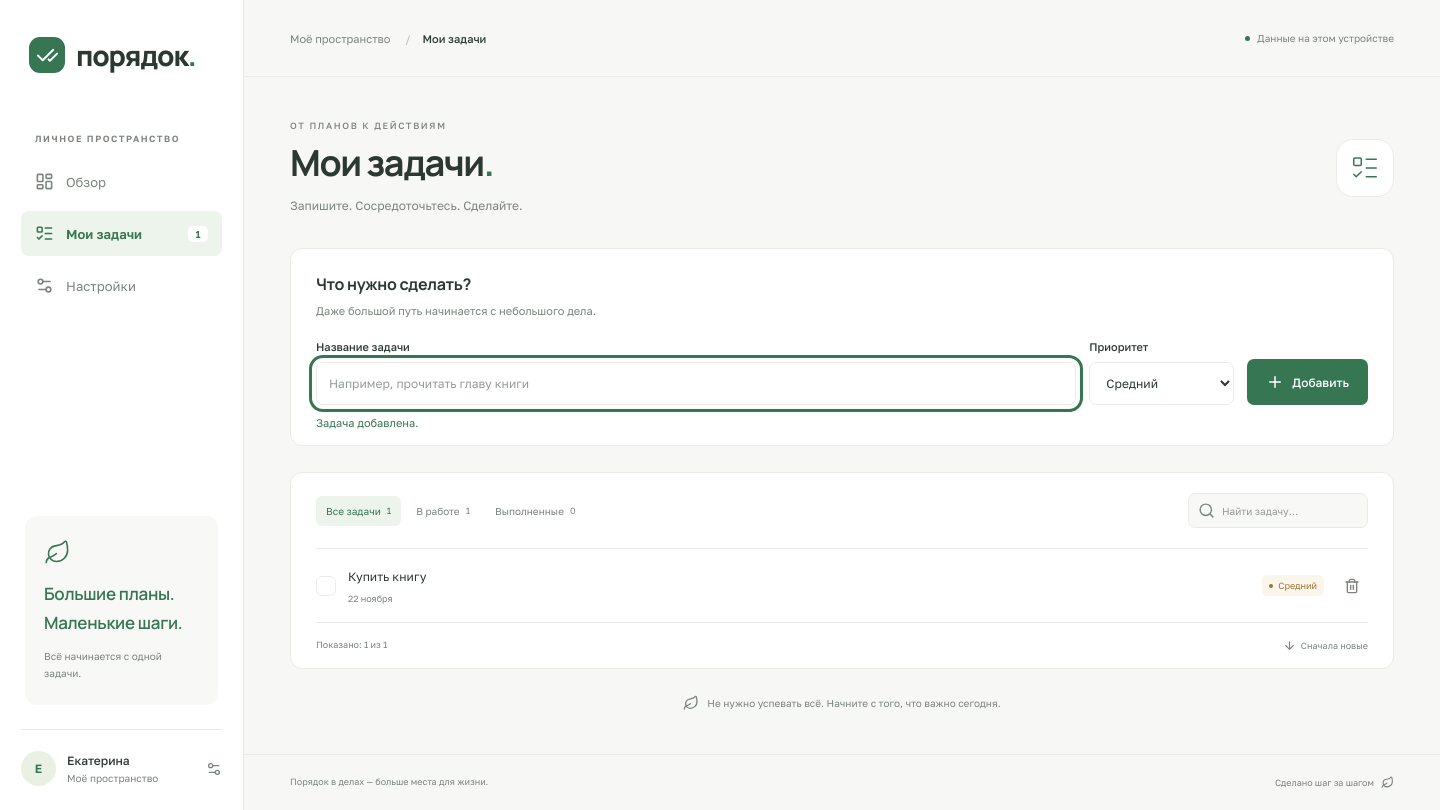
Scenario: показывает ошибку пустой формы, фильтрует, ищет и удаляет задачи
The image size is (1440, 810).
Earlier steps of the test are not shown.
Click the checkbox named "Завершить: Купить книгу".
click(326, 586)  # box [316, 576, 336, 596]
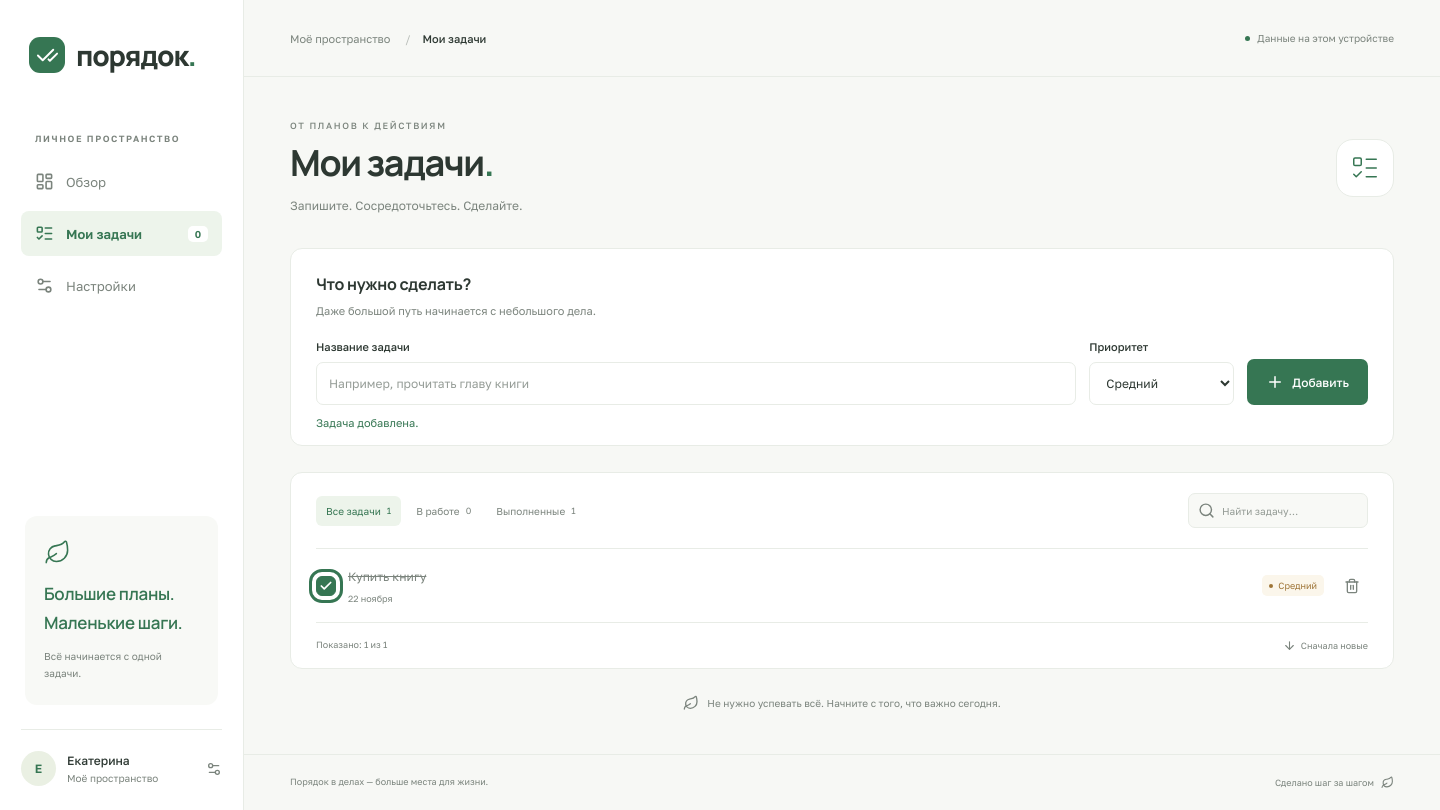
Click the button "В работе 0".
click(444, 511)  # box [406, 496, 481, 526]
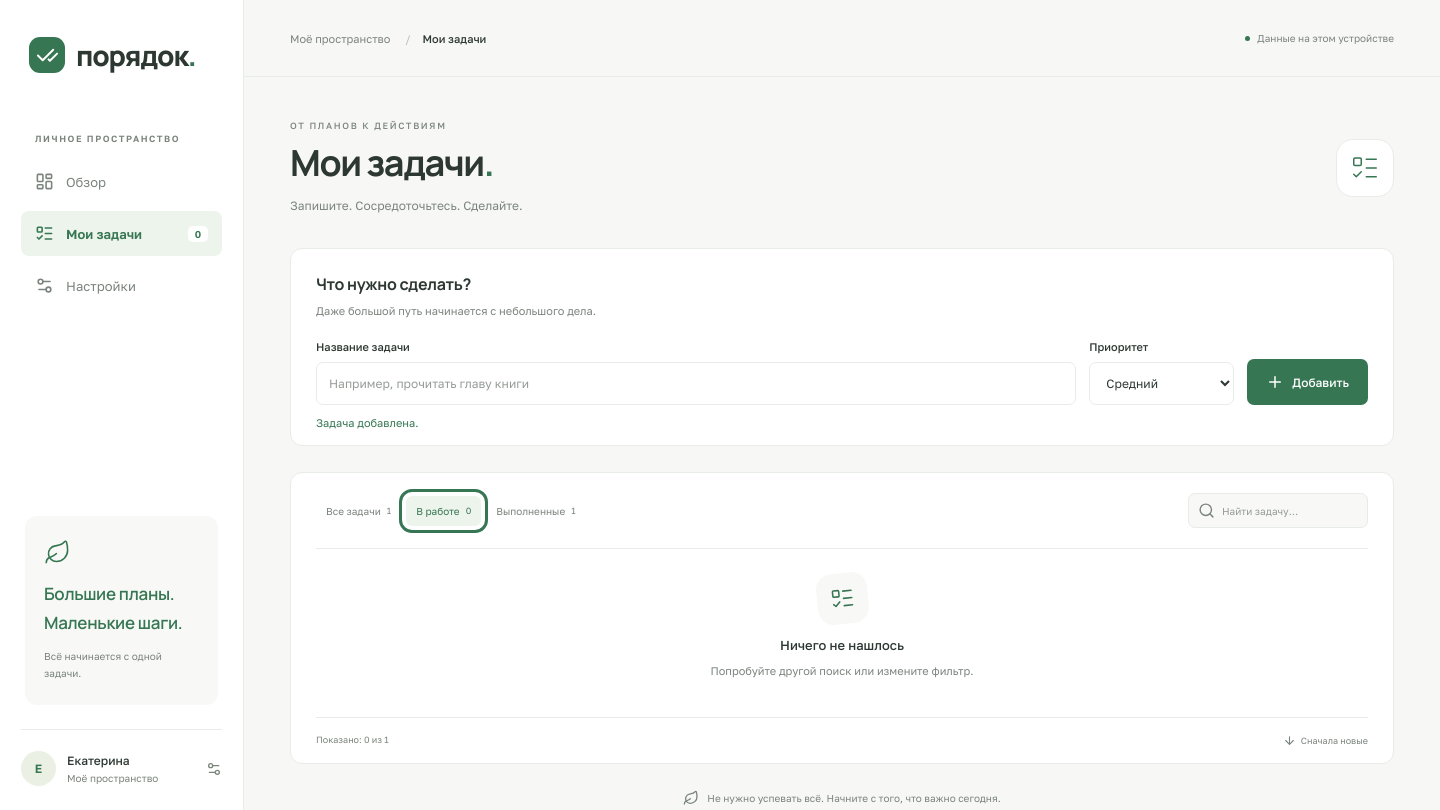
Check: the text "Купить книгу" is gone
Click the button "Выполненные 1".
click(536, 511)  # box [486, 496, 586, 526]
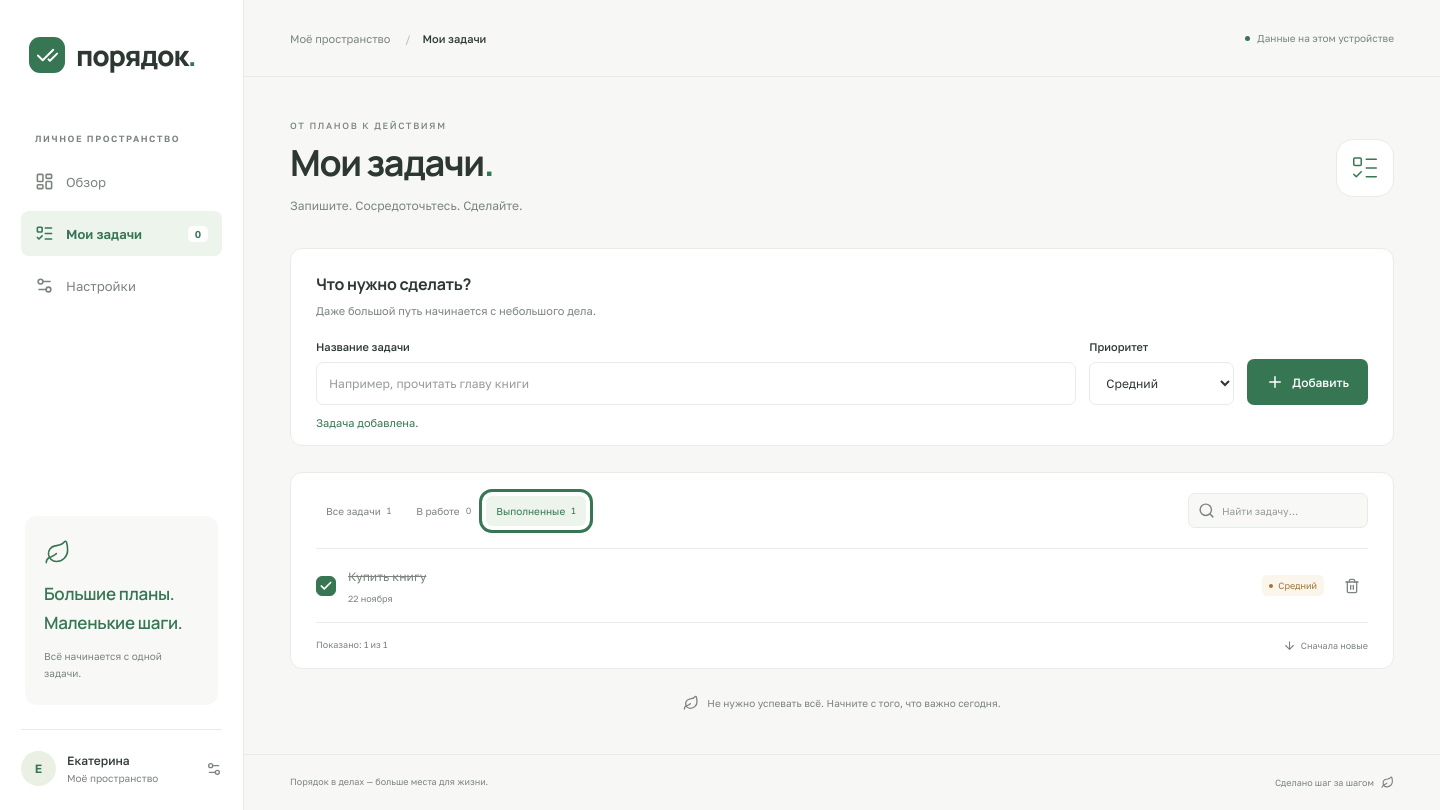
Check: the text "Купить книгу" is shown, box [348, 570, 426, 584]
Type "нет совпадений" into the field named "Поиск задач".
click(1278, 511); type("нет совпадений")  # box [1188, 494, 1368, 528]
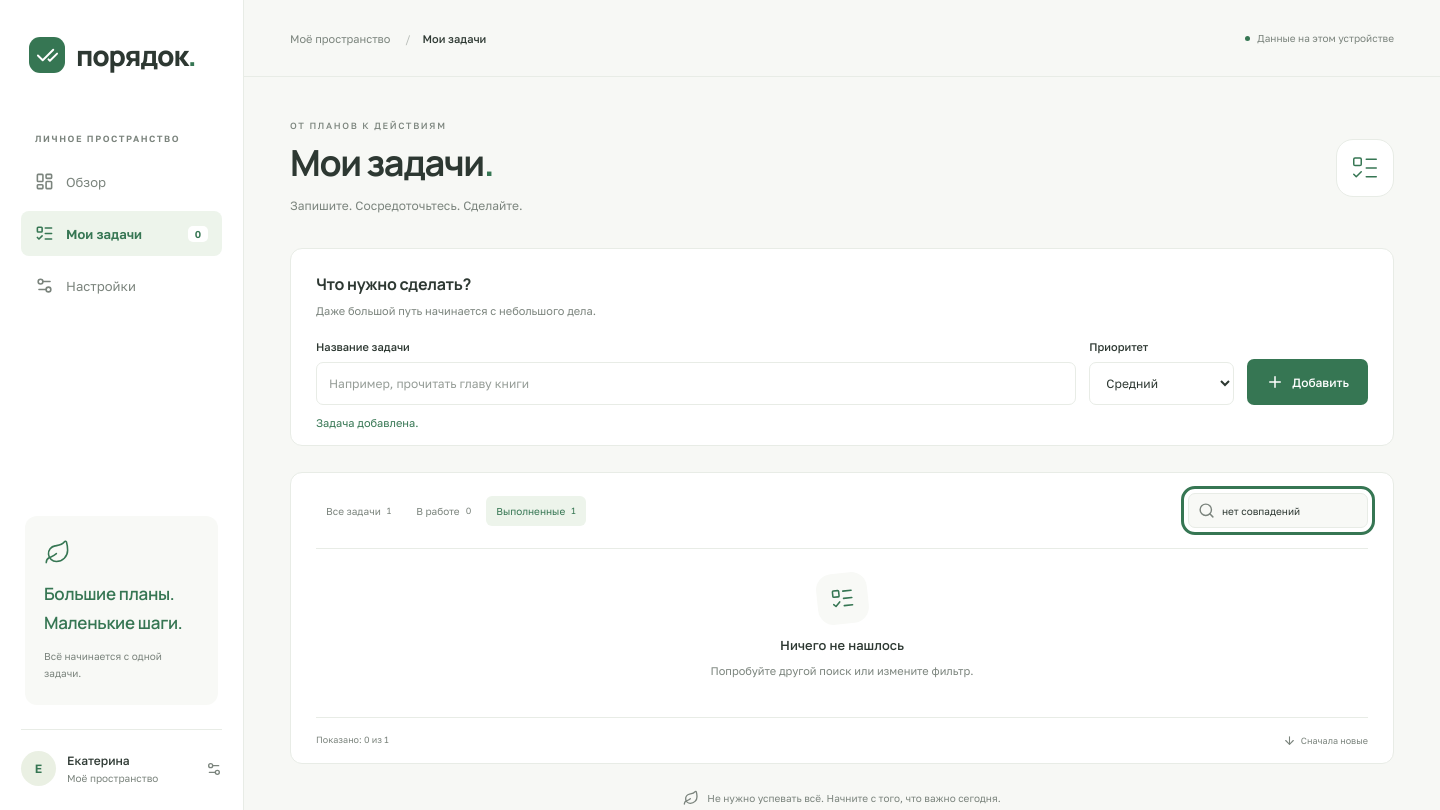
Check: the heading "Ничего не нашлось" is shown, box [780, 638, 904, 654]
Clear the field named "Поиск задач" at [1278, 511], box [1188, 494, 1368, 528]
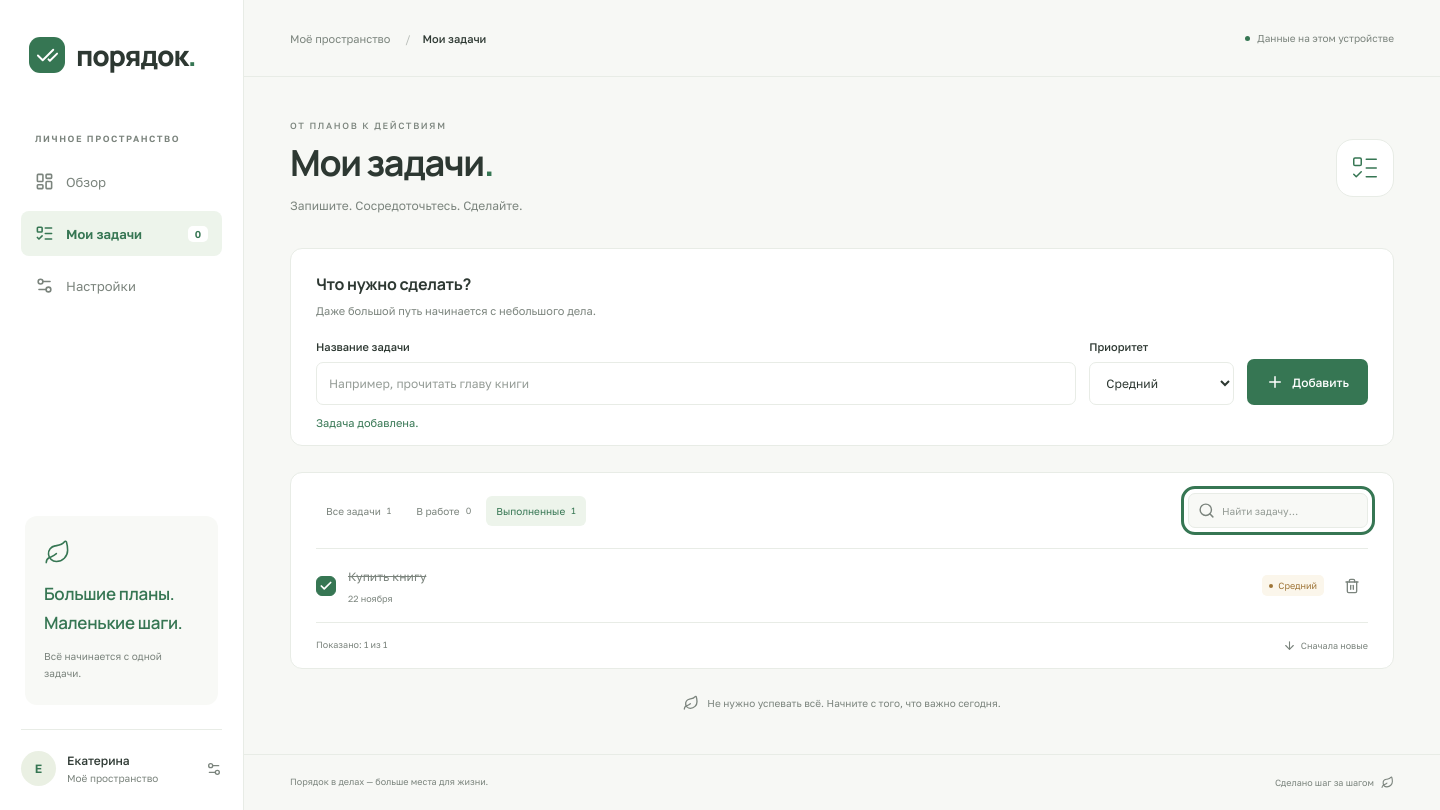
Click the button named "Удалить: Купить книгу".
click(1352, 586)  # box [1336, 570, 1368, 602]
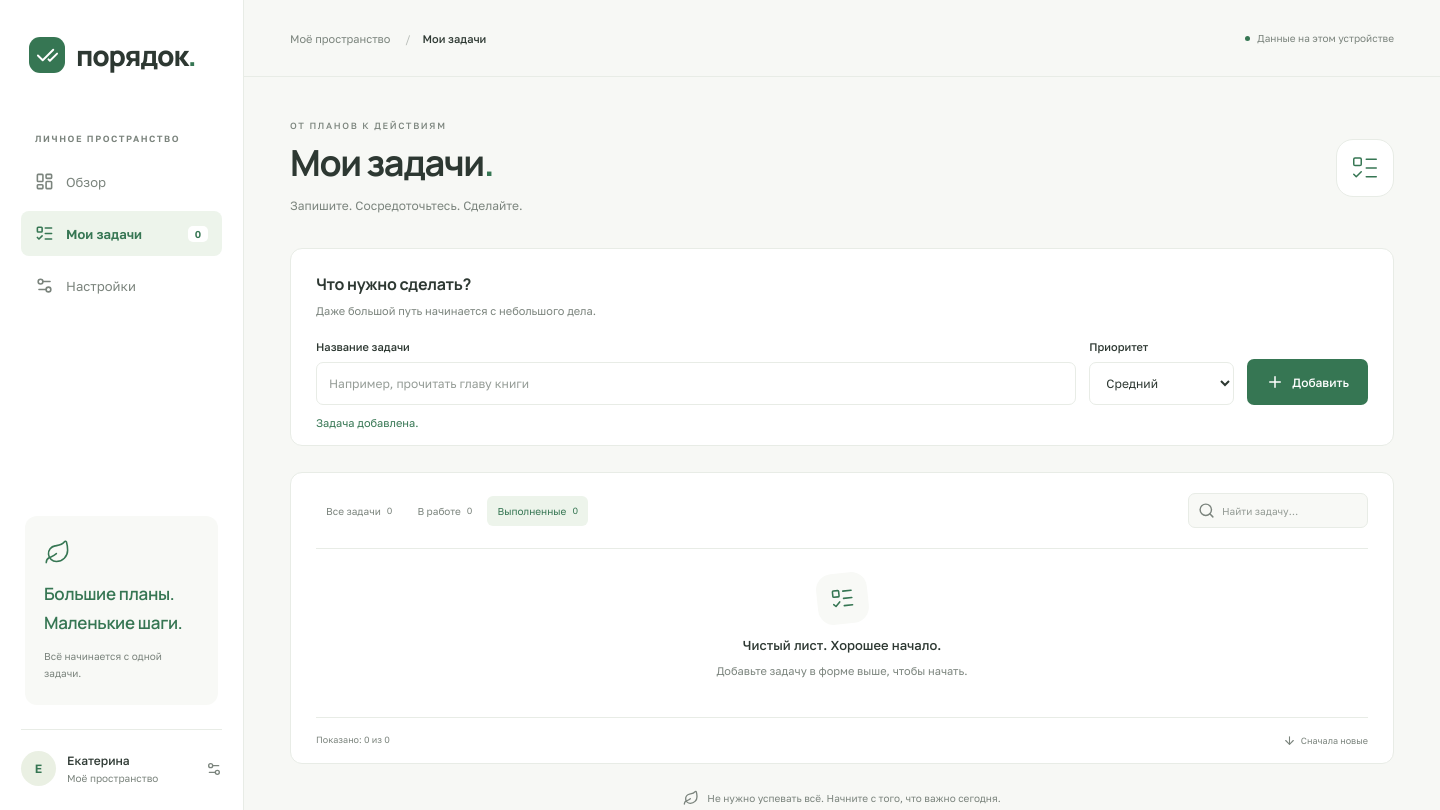
Check: the text "Купить книгу" is gone
